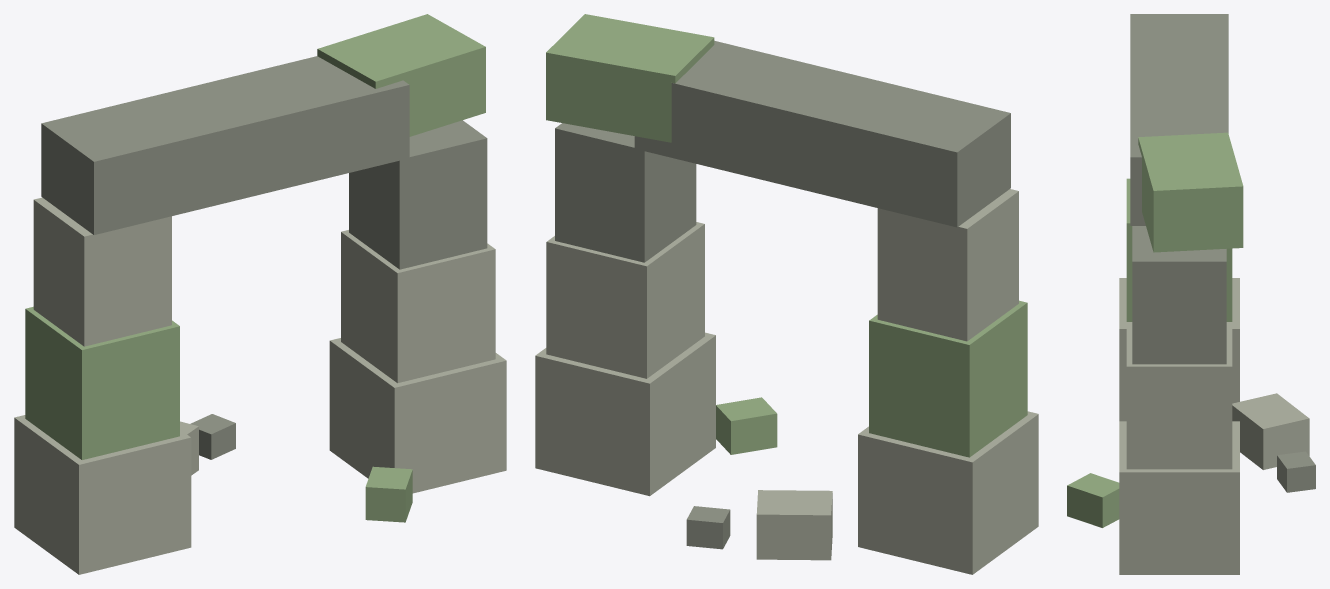
The model's file is prop_temple_gate.glb.
3 views of the same model, side by side, from view 1: azimuth 30°, elevation 25°; view 2: azimuth 150°, elevation 25°; view 3: azimuth 270°, elevation 25° (orthographic). The views are drawn at different scales.
Visible parts, largest first — view 1: prop_temple_gate; view 2: prop_temple_gate; view 3: prop_temple_gate.
Boxes of the visible parts, x1=… form: prop_temple_gate: x1=14, y1=14, x2=506, y2=574; prop_temple_gate: x1=535, y1=14, x2=1038, y2=574; prop_temple_gate: x1=1067, y1=14, x2=1315, y2=574.
Bounding box in the file's own units: 12.2 × 11.2 × 6.6.
